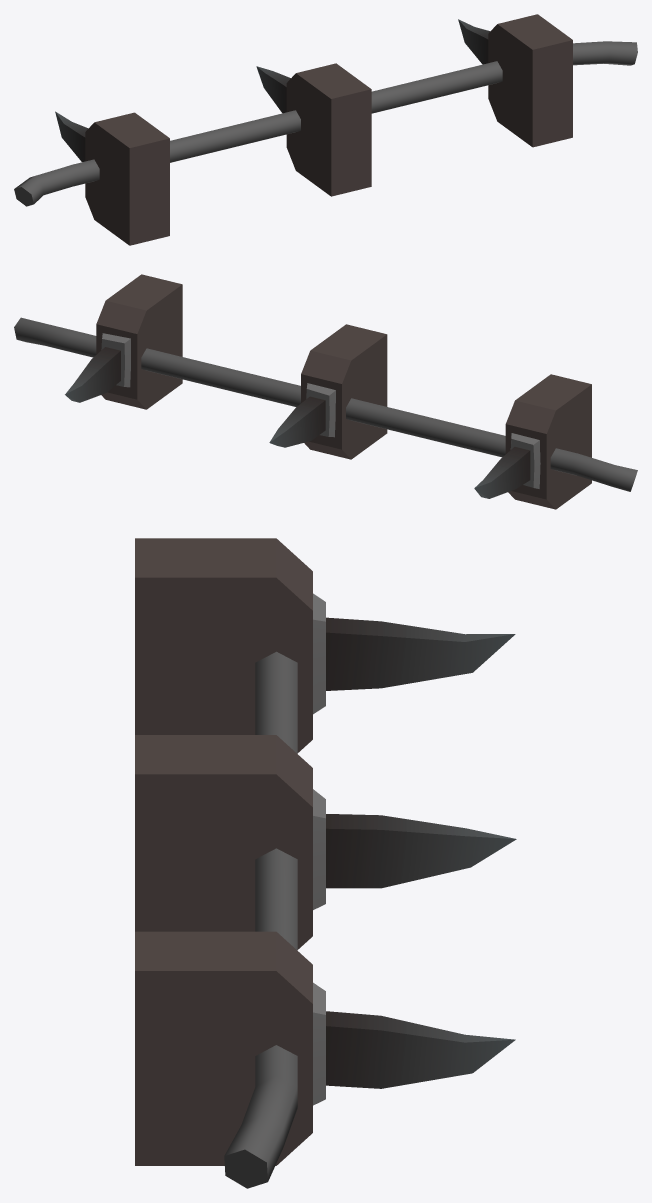
Rendered from Apocalypse_Car_01_Armor_02.fbx.
The picture shows the model from 3 angles, top to bottom: view 1: azimuth 30°, elevation 25°; view 2: azimuth 150°, elevation 25°; view 3: azimuth 270°, elevation 25°; orthographic projection. The views are drawn at different scales.
Visible parts, largest first — view 1: Apocalypse_Car_01_Armor_02; view 2: Apocalypse_Car_01_Armor_02; view 3: Apocalypse_Car_01_Armor_02.
Boxes of the visible parts, x1,y1,x2,y2 form: Apocalypse_Car_01_Armor_02: (14,14,637,245); Apocalypse_Car_01_Armor_02: (14,274,637,509); Apocalypse_Car_01_Armor_02: (135,538,516,1188).
Bounding box in the file's own units: 237 × 63.84 × 35.97.
